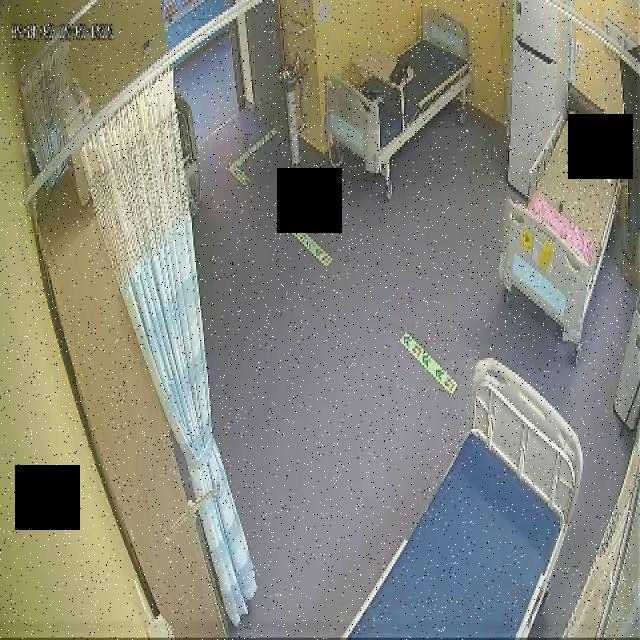bed: (342, 358, 584, 638), (497, 96, 626, 326), (323, 6, 473, 174)
